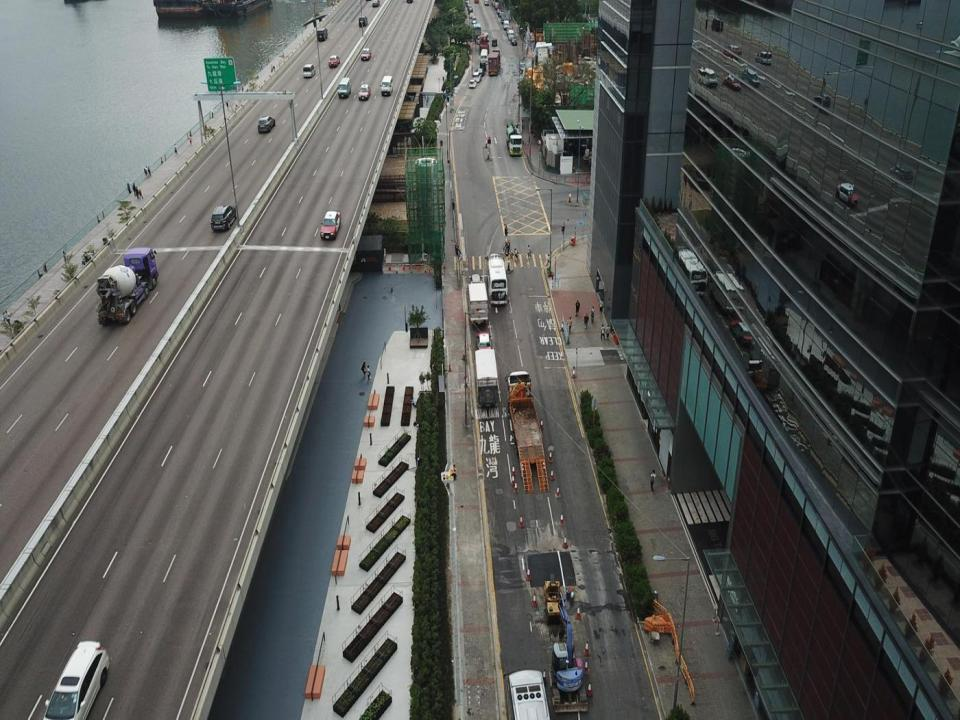bus: (501, 666, 553, 719), (484, 252, 509, 308)
car: (41, 640, 111, 719), (728, 313, 754, 349), (207, 204, 236, 231), (320, 210, 342, 240), (475, 330, 492, 354), (257, 114, 276, 134), (358, 83, 372, 102), (359, 44, 372, 62), (328, 53, 340, 67), (472, 71, 482, 83), (467, 78, 476, 88), (507, 28, 514, 40), (510, 36, 517, 46), (492, 36, 497, 48)
truck: (92, 246, 160, 329), (505, 370, 549, 493), (473, 348, 499, 408), (467, 274, 488, 328), (505, 123, 524, 157), (488, 48, 501, 76), (478, 35, 488, 51), (472, 22, 480, 39)
van: (677, 241, 711, 294), (336, 76, 352, 100), (379, 72, 393, 97), (301, 62, 316, 78), (317, 25, 328, 42), (480, 46, 488, 68), (357, 13, 369, 26), (479, 58, 486, 72)
